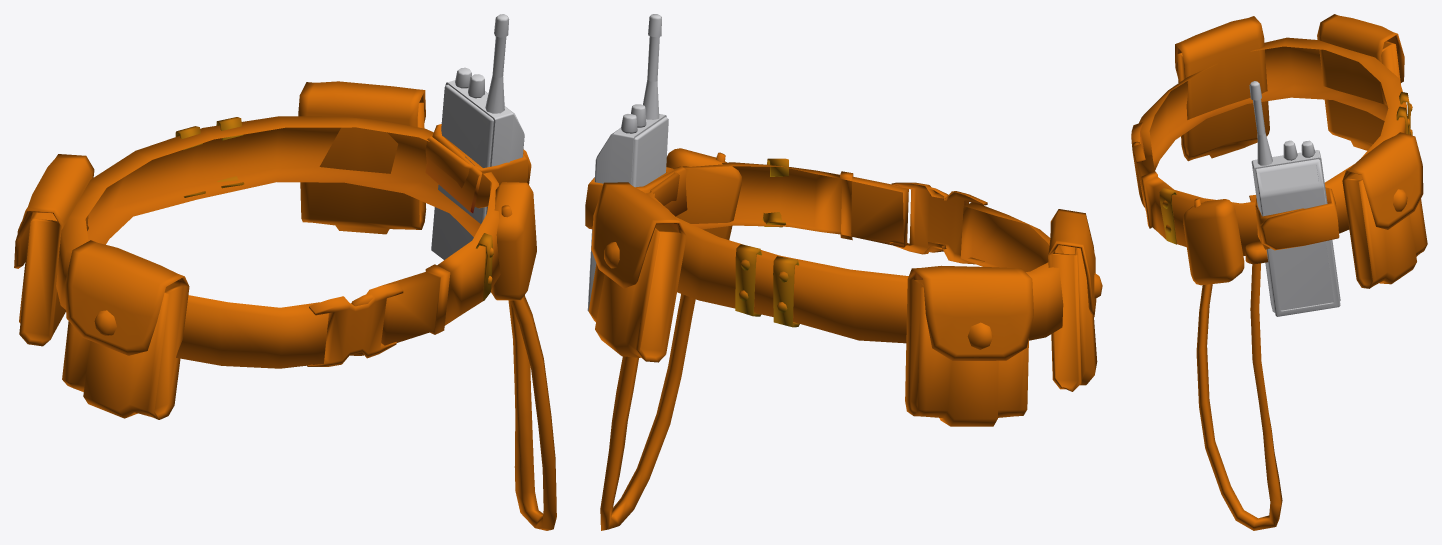
3 views of the same model, side by side, from view 1: azimuth 30°, elevation 25°; view 2: azimuth 150°, elevation 25°; view 3: azimuth 270°, elevation 25° (orthographic). The views are drawn at different scales.
Parts seen in each view (by area): view 1: hash_800E7364.model; view 2: hash_800E7364.model; view 3: hash_800E7364.model.
Part boxes in pixels (x1,y1,x2,y2): hash_800E7364.model: (14, 14, 556, 530); hash_800E7364.model: (585, 14, 1102, 530); hash_800E7364.model: (1131, 14, 1427, 530).
Size of the model in its own units: 0.4608 by 0.4752 by 0.2962.
